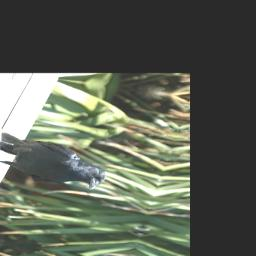Crow: (0, 131, 116, 191)
